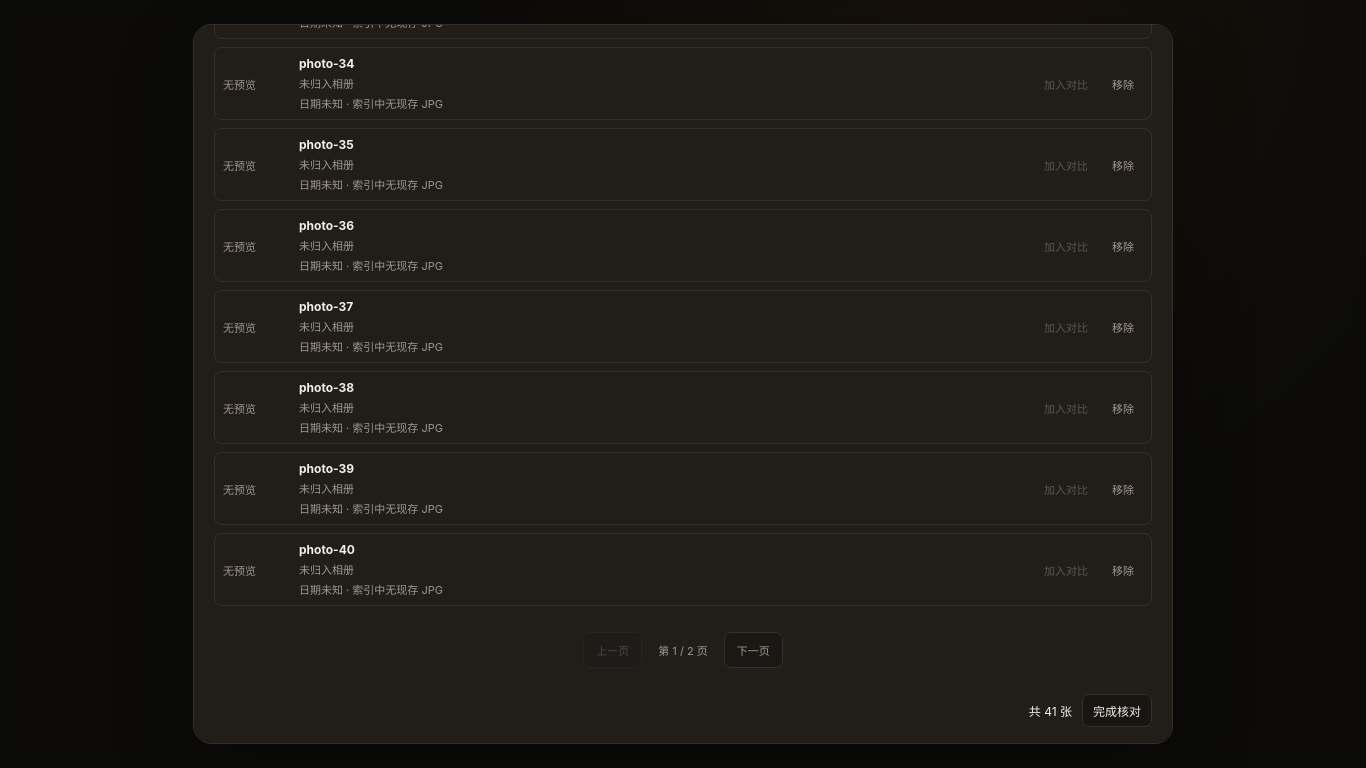
queries only a page of explicit IDs and moves back after removing the final page's last item
(page scrolled)
Click the button "下一页" at (753, 650), box x1=724 y1=632 x2=783 y2=668
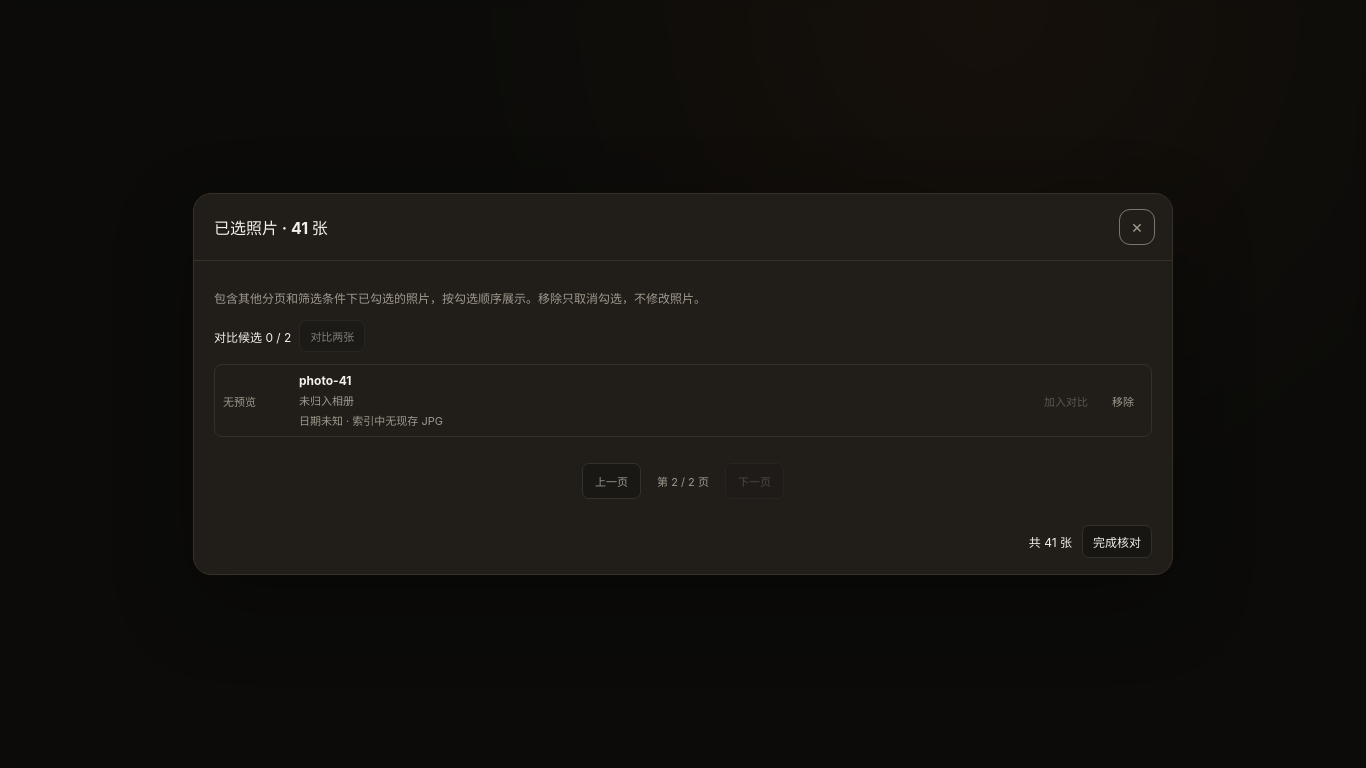
expect the text "photo-41" is shown: met, box x1=299 y1=373 x2=352 y2=388
Click the button "移除" at (1123, 401), box x1=1103 y1=387 x2=1143 y2=415
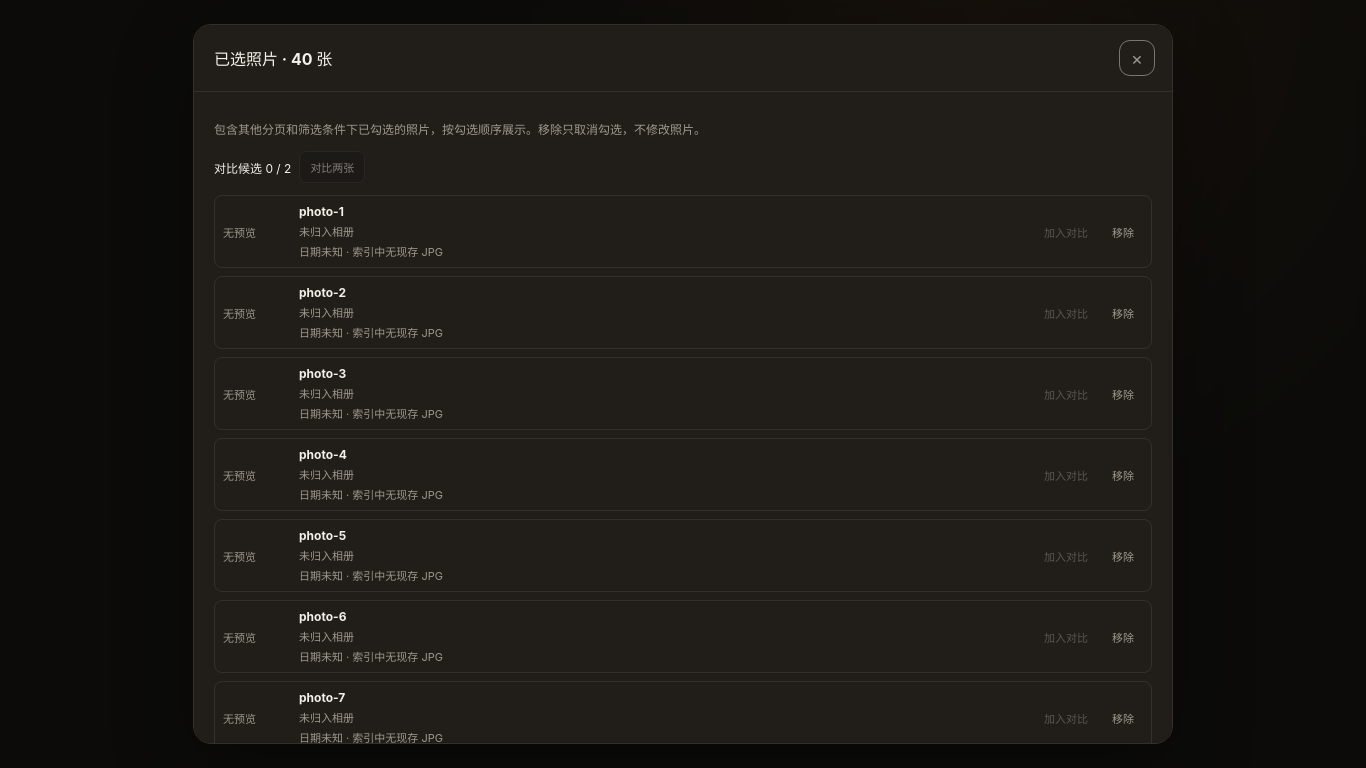
expect the navigation bar named "简化分页" is gone: met
expect the text "photo-41" is gone: met
